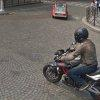Motorcycle: (31, 35, 100, 100)
